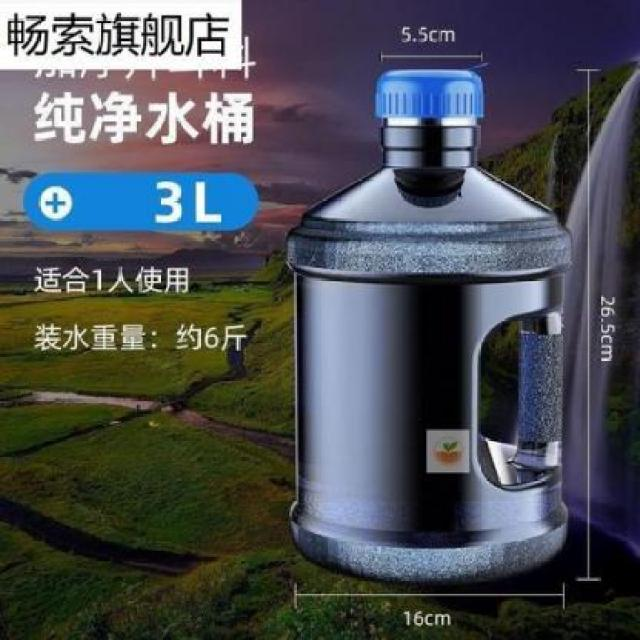coolerbottle: (282, 66, 574, 589)
